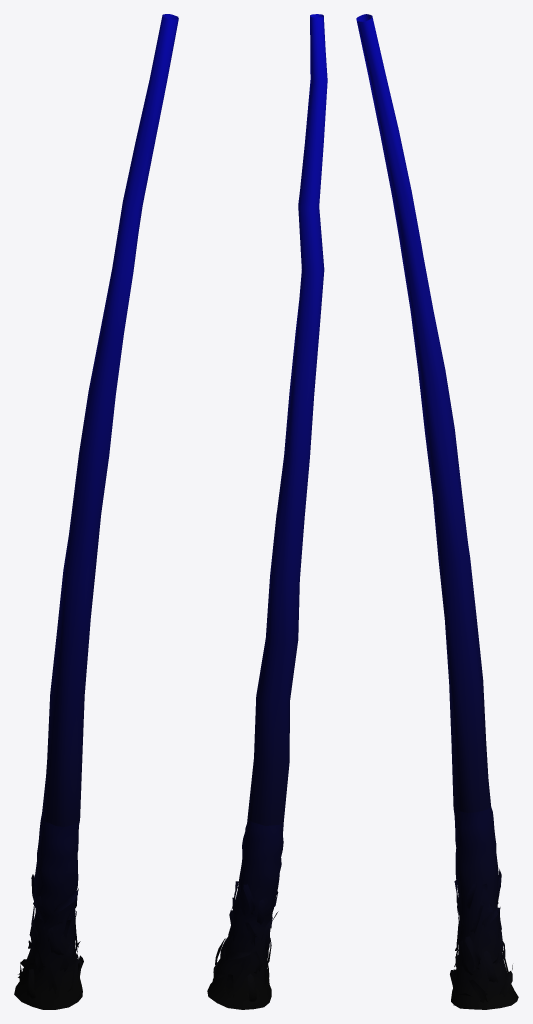
The model's file is tree4.obj.
3 views of the same model, side by side, from view 1: azimuth 90°, elevation 25°; view 2: azimuth 150°, elevation 25°; view 3: azimuth 270°, elevation 25° (orthographic). The views are drawn at different scales.
Parts seen in each view (by area): view 1: Palm_Tree_M_01_T.002; view 2: Palm_Tree_M_01_T.002; view 3: Palm_Tree_M_01_T.002.
Boxes of the visible parts, <box> form: Palm_Tree_M_01_T.002: <box>14,14,178,1009</box>; Palm_Tree_M_01_T.002: <box>207,14,327,1009</box>; Palm_Tree_M_01_T.002: <box>356,14,518,1009</box>.
Bounding box in the file's own units: 1.03 × 12.16 × 1.83.
